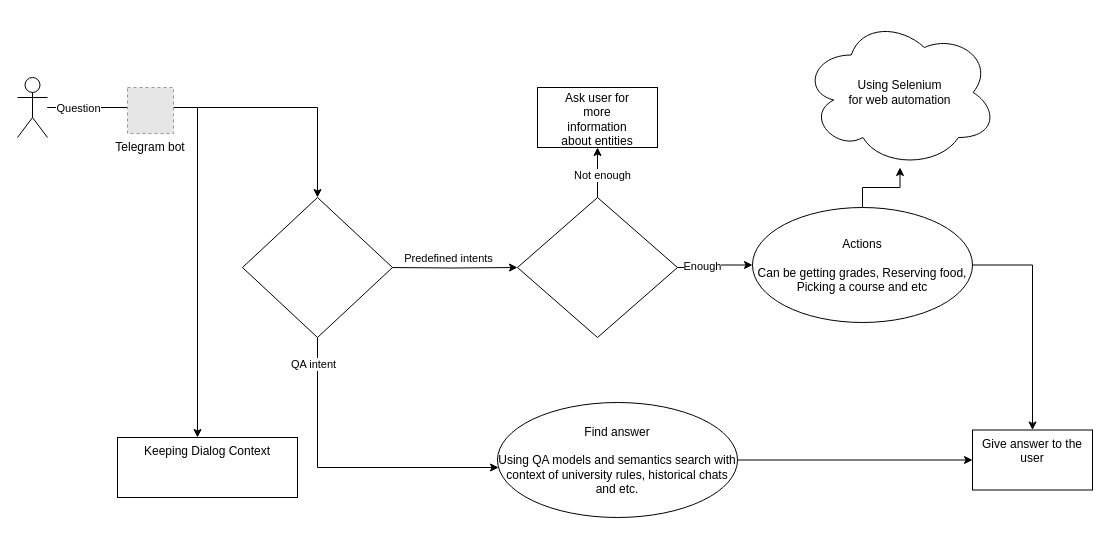
The diagram is 1110 pixels wide and 535 high, and some of its shapes have lost their labels. Grey dashed boxes stand in for pictures. Here are the shapes that lost their labels. From the top down, the centre of each, then its label:
At [32,107]: "Actor".
At [317,267]: "Intent classfication Find out what is the intent of the query".
At [597,267]: "NER Find out if entities of enough for given intent".
